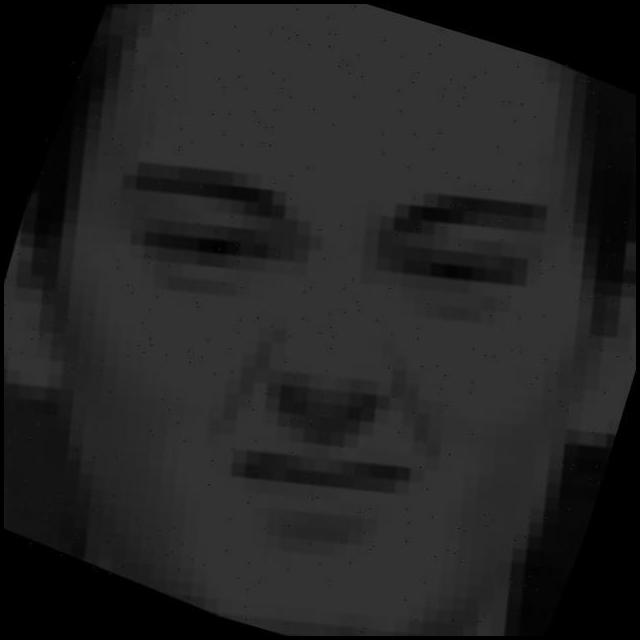Disgust: (44, 46, 619, 614)
